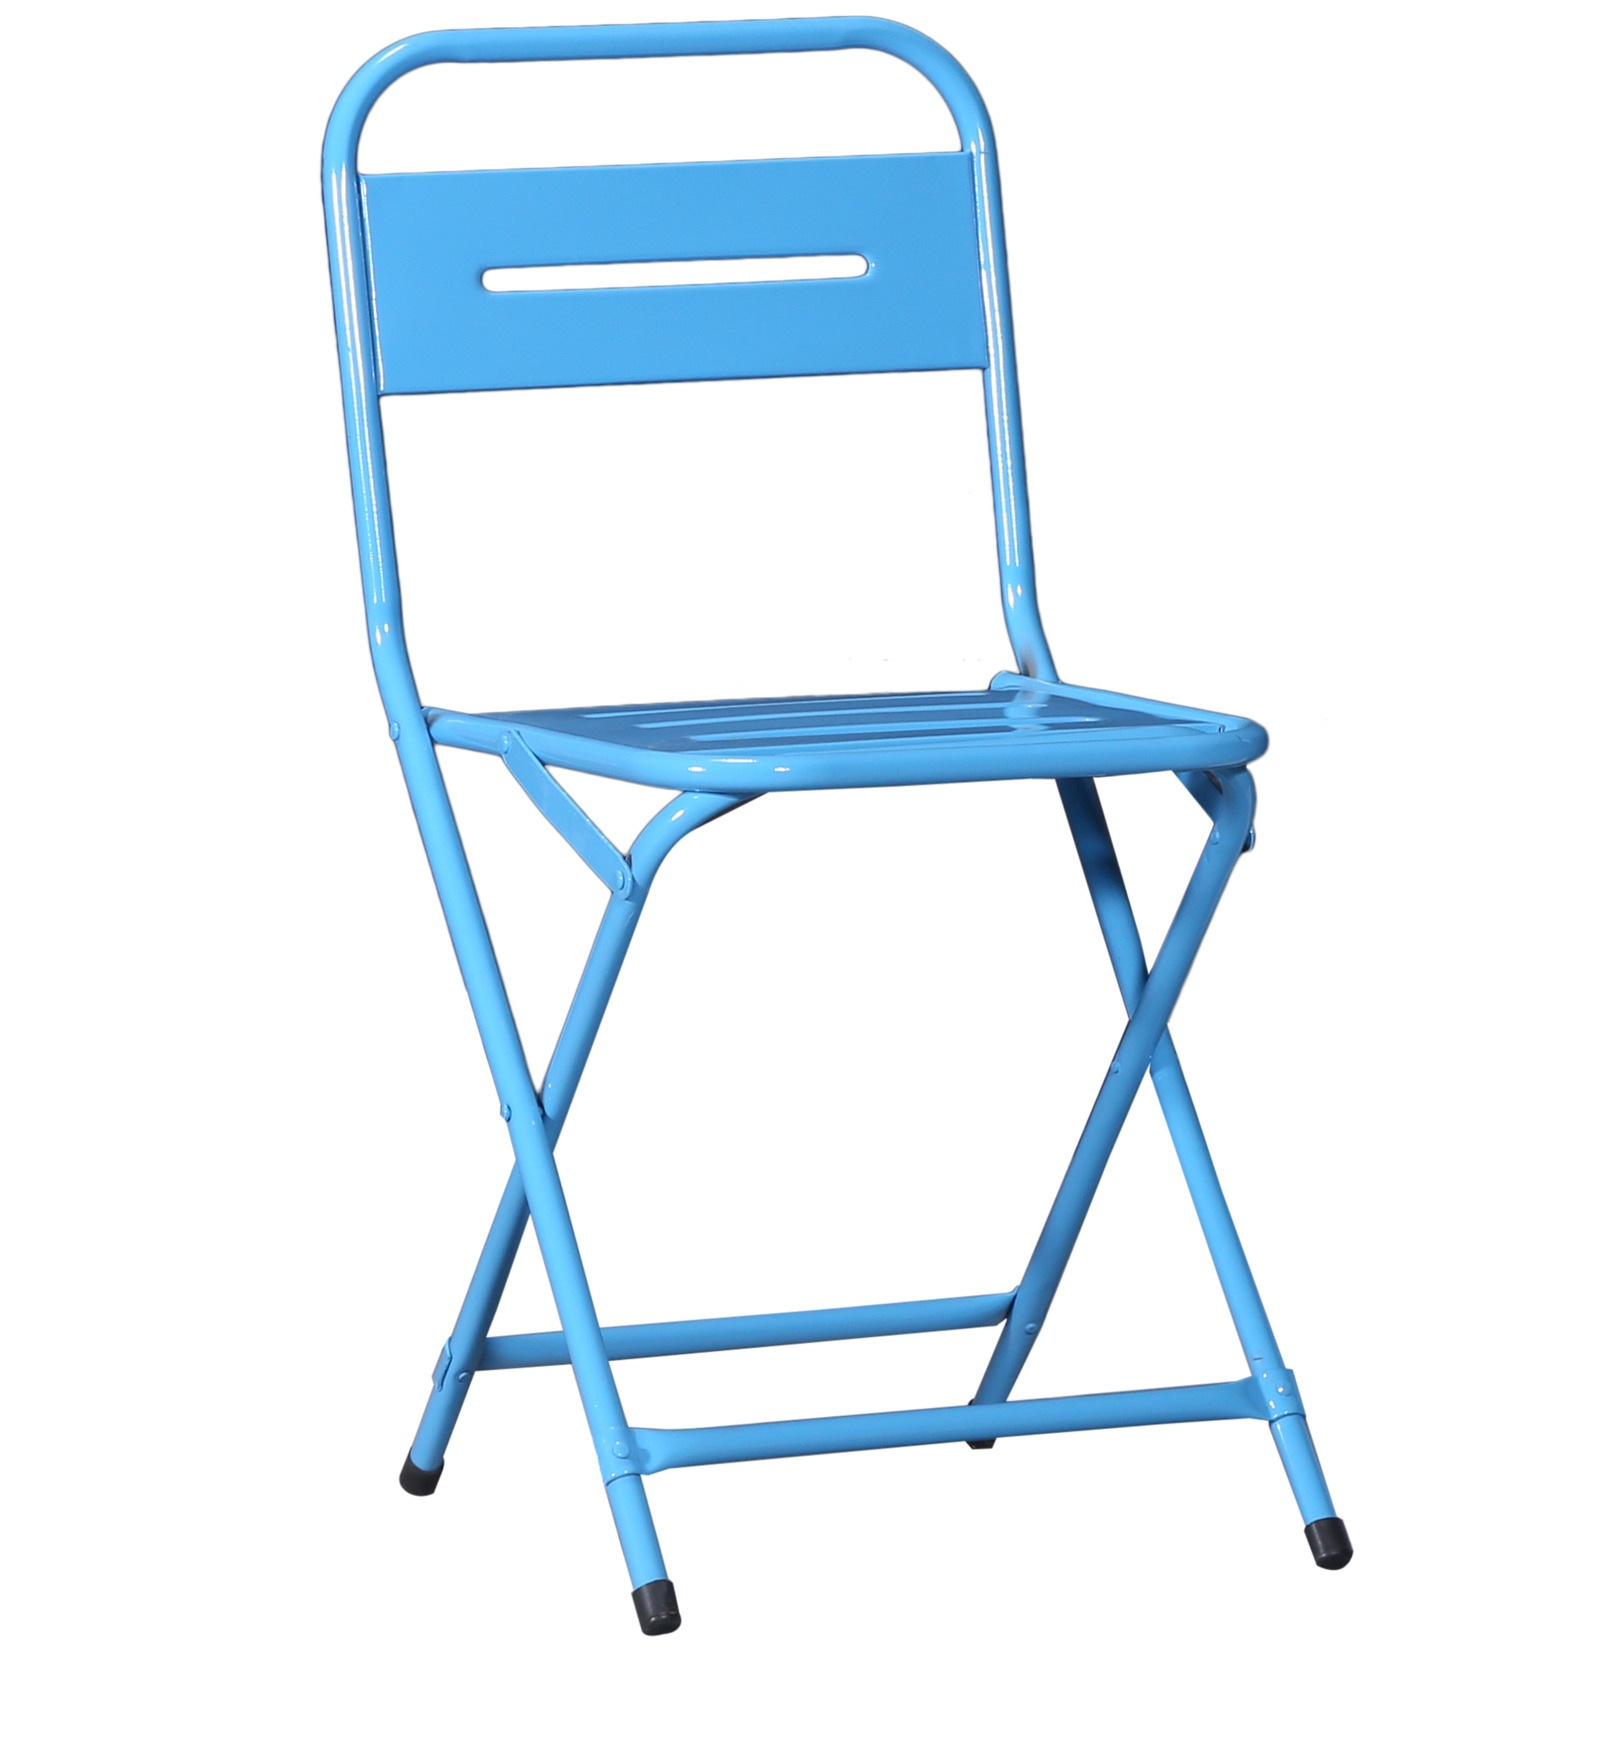Marandoo Grunge Blue Outdoor Folding Chair by Bohemiana: (311, 18, 1375, 1634)
